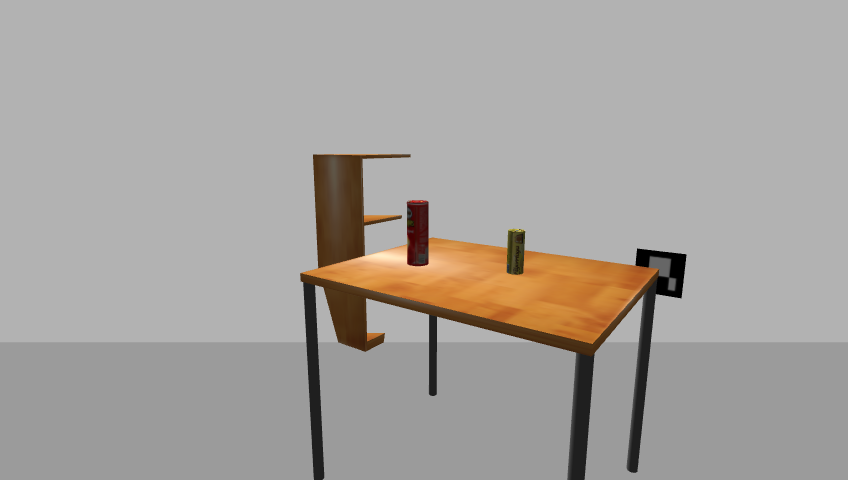aruco marker: (631, 247, 691, 300)
biscuits pack: (506, 229, 526, 276)
bookshelf: (309, 150, 414, 355)
dinner table: (294, 236, 667, 480)
pringles can: (404, 200, 431, 268)
